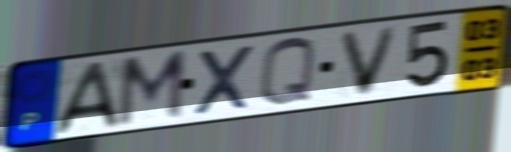5: (404, 18, 450, 91)
A: (51, 58, 123, 138)
M: (113, 47, 190, 131)
Q: (256, 35, 319, 110)
V: (336, 23, 402, 100)
X: (191, 42, 257, 119)
